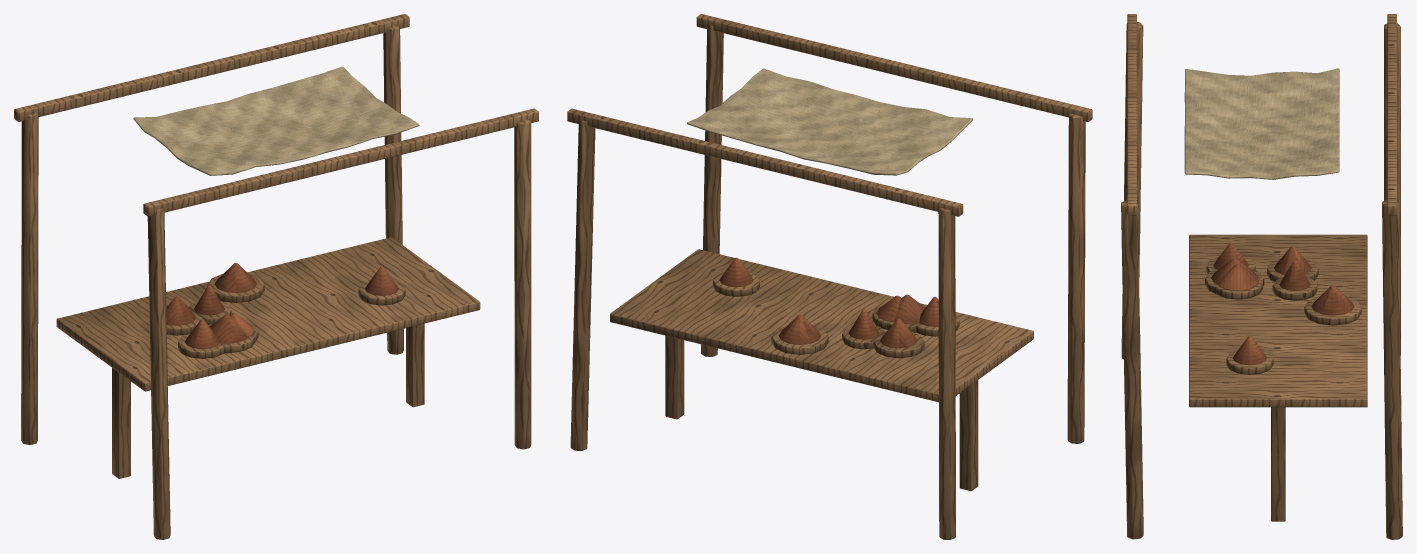
File: canopy_spice.glb
3 renders of one model, left to right at view 1: azimuth 30°, elevation 25°; view 2: azimuth 150°, elevation 25°; view 3: azimuth 270°, elevation 25°, orthographic.
Visible parts, largest first — view 1: canopy_spice; view 2: canopy_spice; view 3: canopy_spice.
Part boxes in pixels (box(x1,y1,x2,y2)): canopy_spice: box(14, 14, 538, 539); canopy_spice: box(567, 14, 1092, 539); canopy_spice: box(1121, 14, 1402, 539).
Size of the model in its own units: 2.8 by 2.29 by 1.73.
3 materials, 3 textured.
